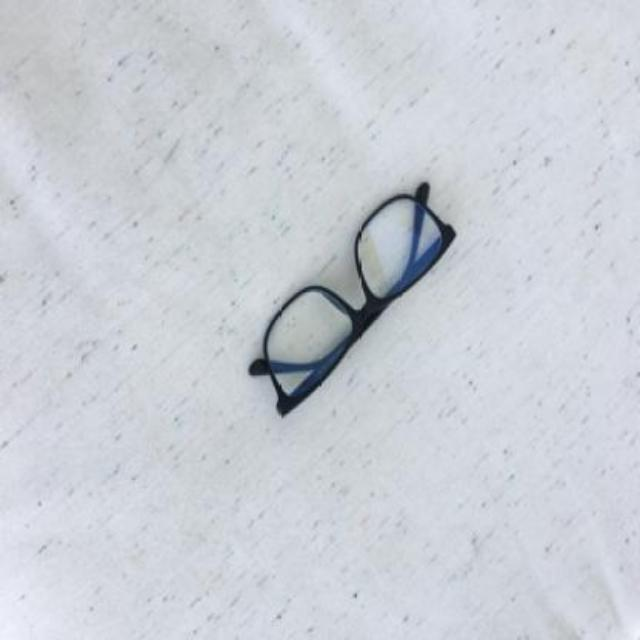glasses: (248, 182, 456, 418)
